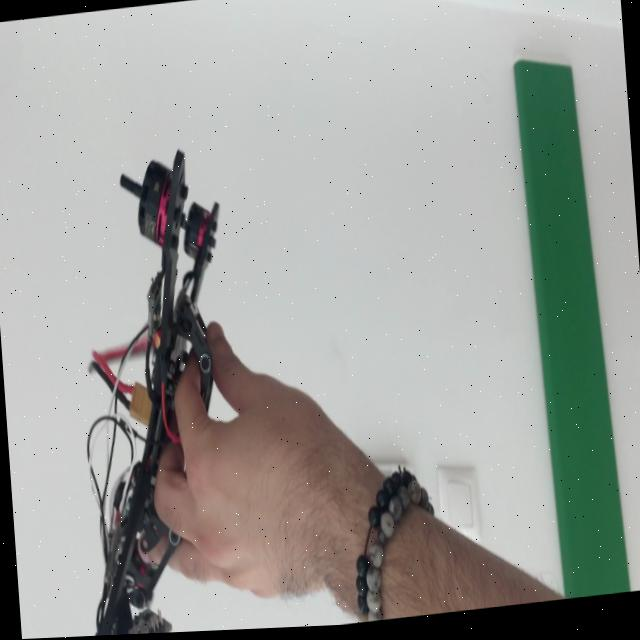drone: (15, 145, 263, 639)
